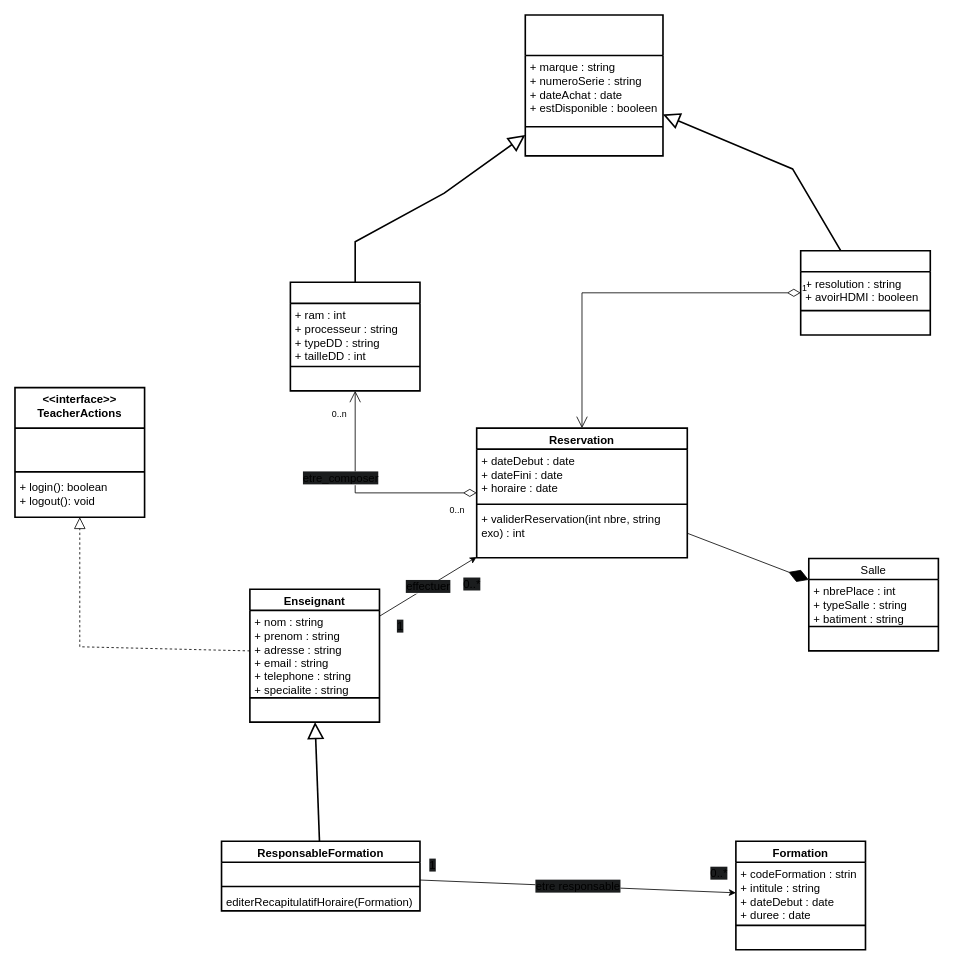
Image size: 953x966. Some labels were removed from this diagram. The box of each missing label's shape, as (x1, y1, x2, y2) in pixels:
<<abstractClass>> Equipement: (524, 14, 663, 156)
Ordinateur: (289, 281, 420, 391)
VideoProjeteur: (799, 249, 931, 335)
